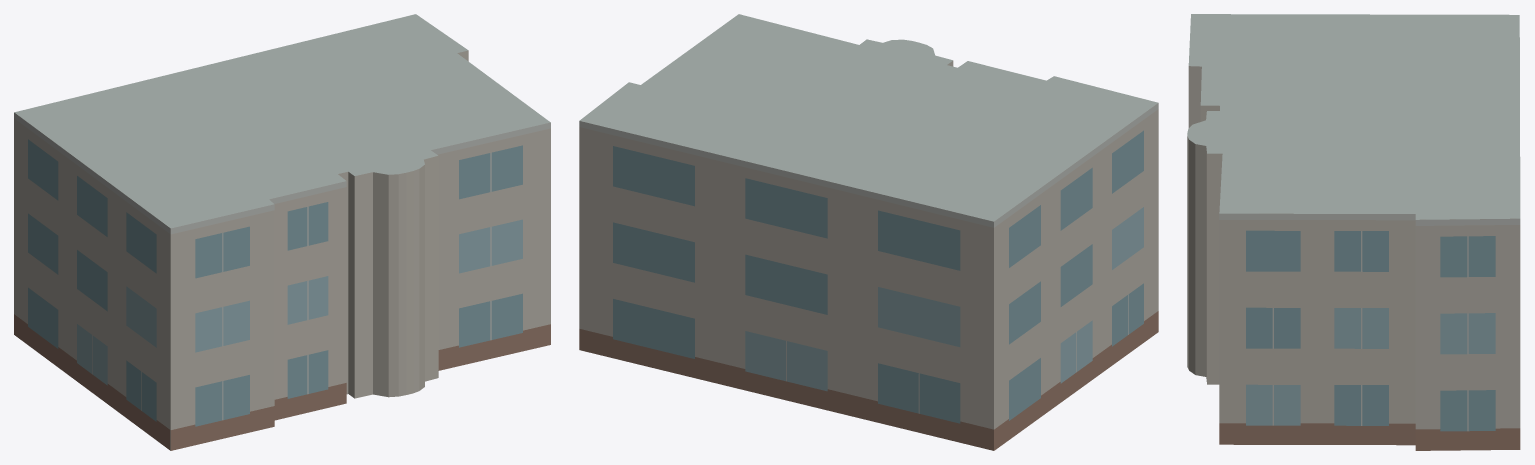
The model's file is survey-upis-32515354.glb.
3 renders of one model, left to right at view 1: azimuth 30°, elevation 25°; view 2: azimuth 150°, elevation 25°; view 3: azimuth 270°, elevation 25°, orthographic. The views are drawn at different scales.
Parts seen in each view (by area): view 1: survey-upis-32515354.tmp; view 2: survey-upis-32515354.tmp; view 3: survey-upis-32515354.tmp.
Boxes of the visible parts, x1,y1,x2,y2 form: survey-upis-32515354.tmp: (14,14,550,450); survey-upis-32515354.tmp: (579,14,1158,450); survey-upis-32515354.tmp: (1187,14,1520,450).
Bounding box in the file's own units: 17.39 × 9.1 × 11.89.
